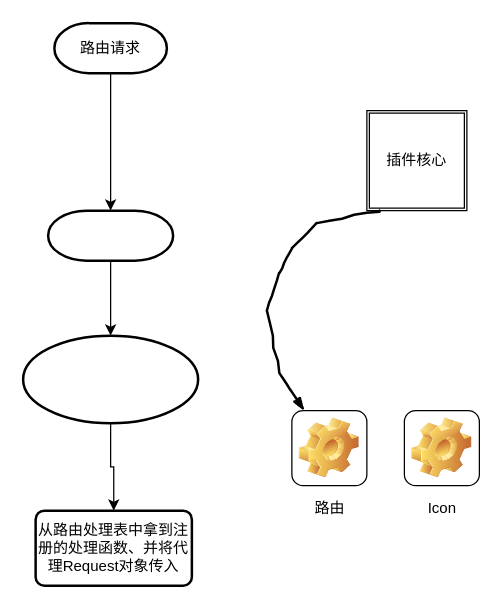
This 501x608 diagram has some shape labels left out. Each missing label, with the centre of its shape:
Router总代理类: the point at 110,235
解析请求头、请求体、http参数、生成代理Request对象: the point at 110,379
